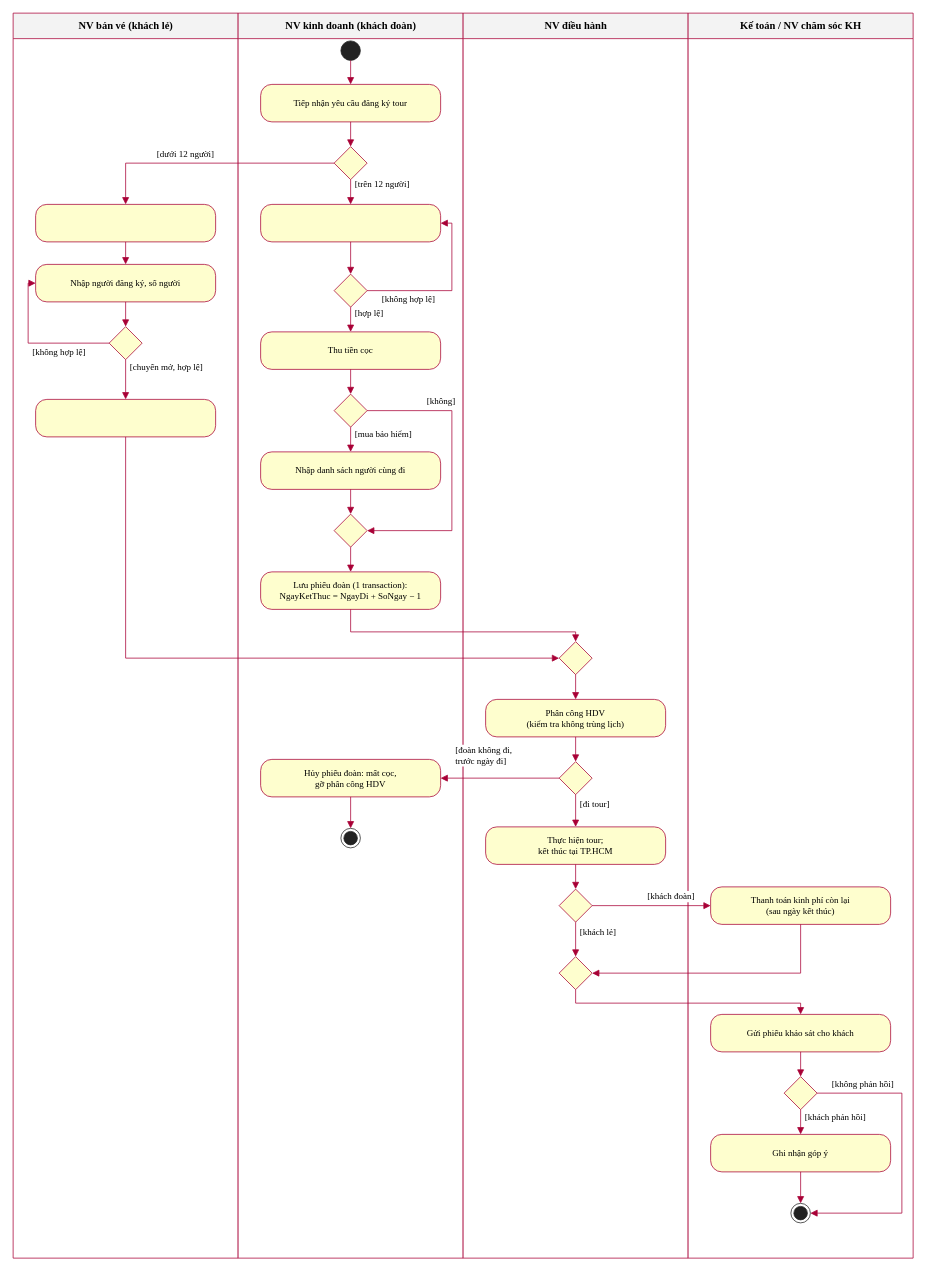
This 934x1271 diagram has some shape labels left out. Here are the shapes that lost their labels. From the top down, the centre of each, then its label:
At (125,223): "Chọn chuyến đang mở đăng ký".
At (350,223): "Nhập thông tin đoàn, chọn tour, ngày đi, số người, điểm đón".
At (125,418): "Thu tiền vé = DonGia × SoNguoi, lưu phiếu đăng ký lẻ".
